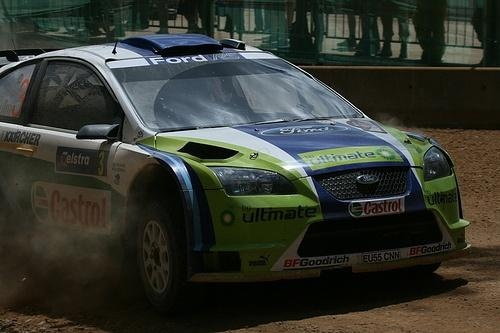car: (1, 35, 473, 305)
